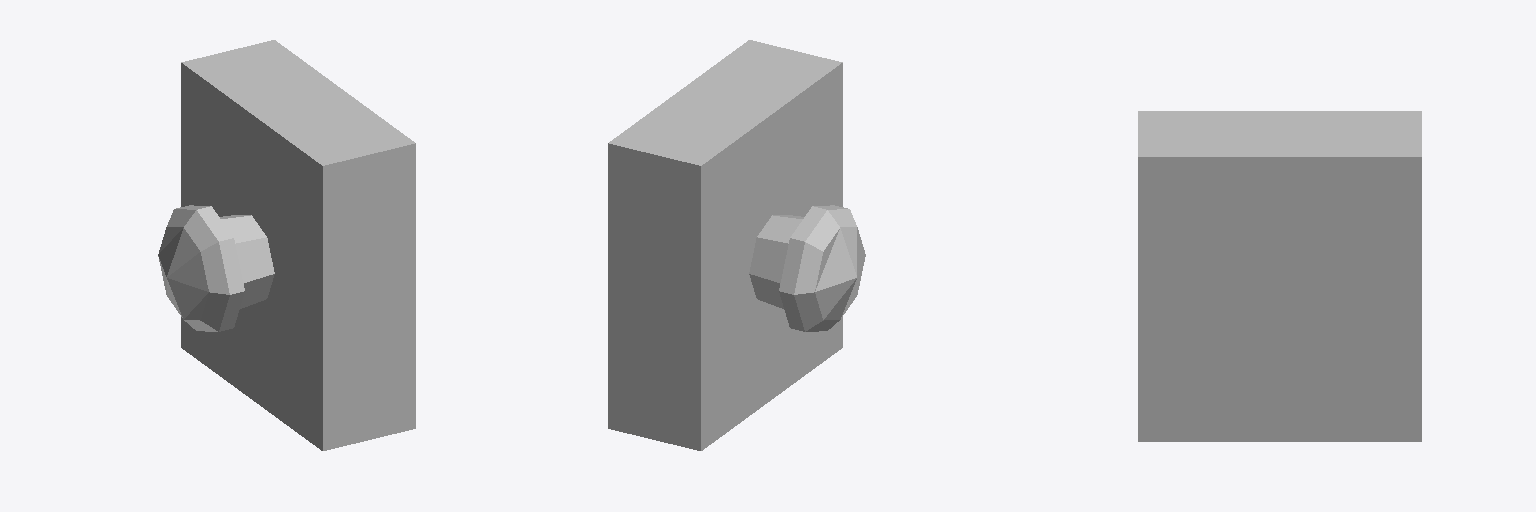
Rendered from doom_button.obj.
3 views of the same model, side by side, from view 1: azimuth 30°, elevation 25°; view 2: azimuth 150°, elevation 25°; view 3: azimuth 270°, elevation 25° (orthographic).
Visible parts, largest first — view 1: Cube.005; view 2: Cube.005; view 3: Cube.005.
Boxes of the visible parts, box(x1,y1,x2,y2) form: Cube.005: box(158, 40, 415, 450); Cube.005: box(608, 40, 865, 450); Cube.005: box(1138, 111, 1421, 441).
Size of the model in its own units: 0.0998 by 0.1523 by 0.1369.